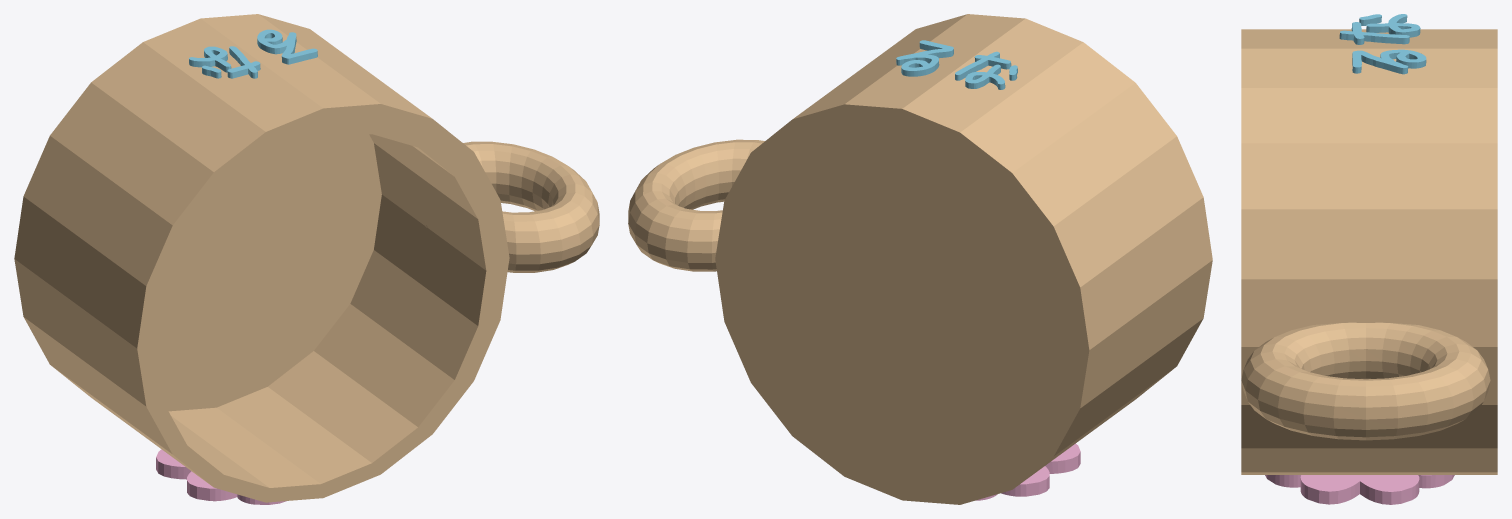
File: tinker.obj
The picture shows the model from 3 angles, left to right: view 1: azimuth 30°, elevation 25°; view 2: azimuth 150°, elevation 25°; view 3: azimuth 270°, elevation 25°; orthographic projection. The views are drawn at different scales.
Visible parts, largest first — view 1: group_0_14860437, group_0_8768998, group_0_15708628; view 2: group_0_14860437, group_0_8768998, group_0_15708628; view 3: group_0_14860437, group_0_15708628, group_0_8768998.
Boxes of the visible parts, x1,y1,x2,y2 form: group_0_14860437: [14, 14, 599, 502]; group_0_8768998: [189, 29, 317, 78]; group_0_15708628: [156, 449, 286, 504]; group_0_14860437: [628, 14, 1212, 504]; group_0_8768998: [896, 40, 1017, 89]; group_0_15708628: [976, 443, 1080, 500]; group_0_14860437: [1241, 29, 1497, 474]; group_0_15708628: [1265, 475, 1454, 504]; group_0_8768998: [1339, 14, 1426, 74].
Bounding box in the file's own units: 85 × 65 × 36.
